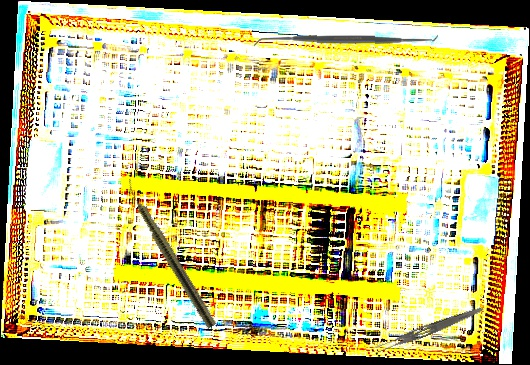Dressing Forceps: (372, 301, 485, 357)
Handpiece: (120, 177, 219, 330)
Spatula Surgical: (253, 28, 439, 52)
